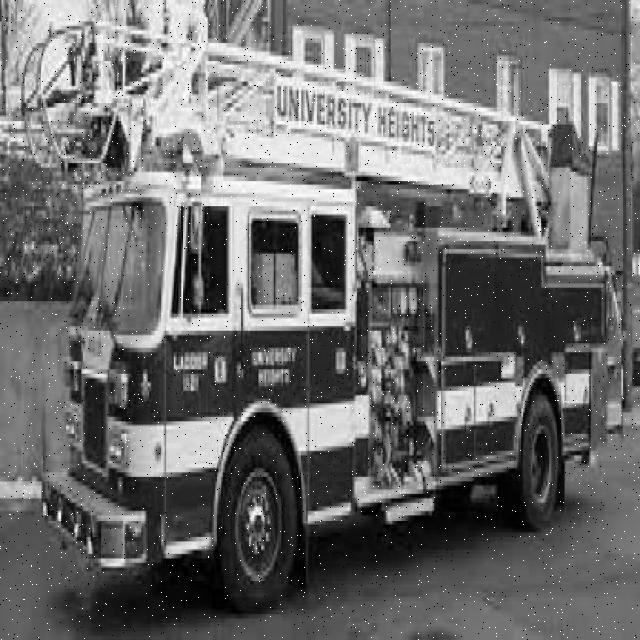Fire Truck: (18, 22, 610, 616)
